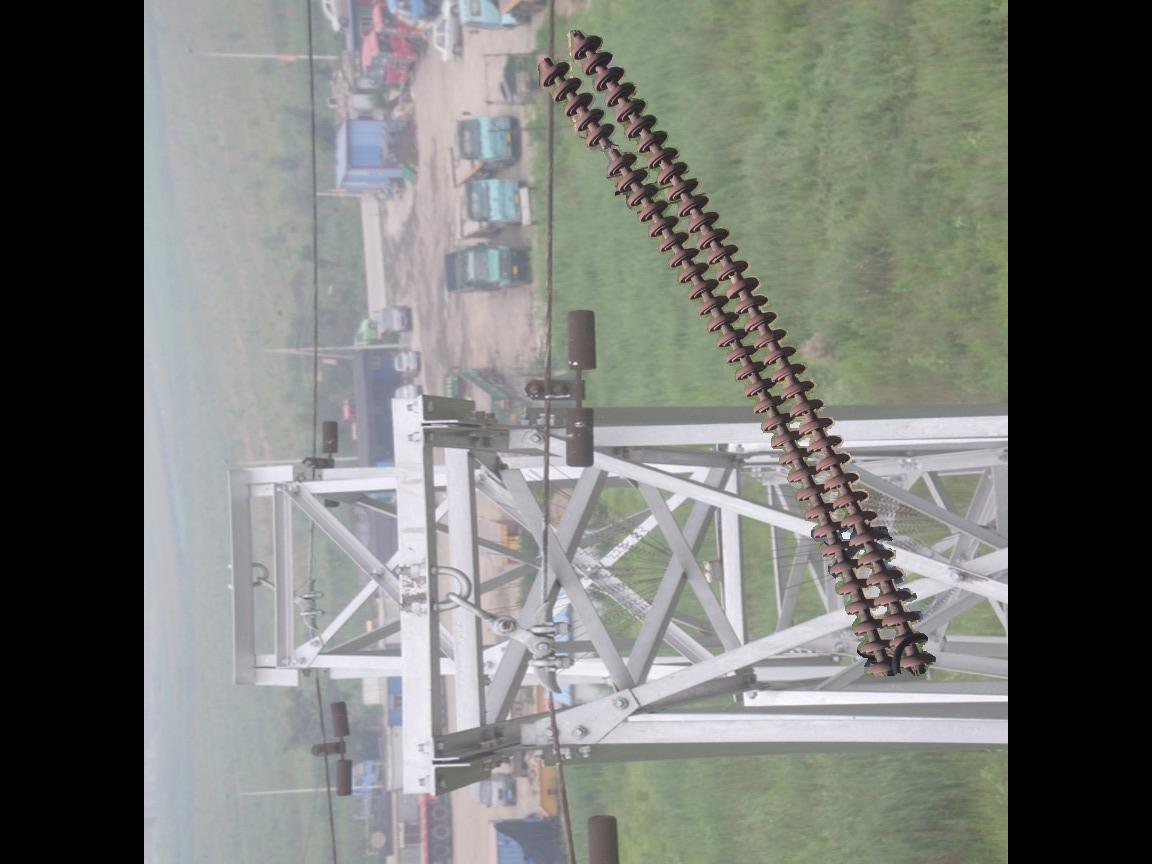insulator: (527, 29, 940, 684)
insulator_stringdrop: (583, 121, 640, 182)
